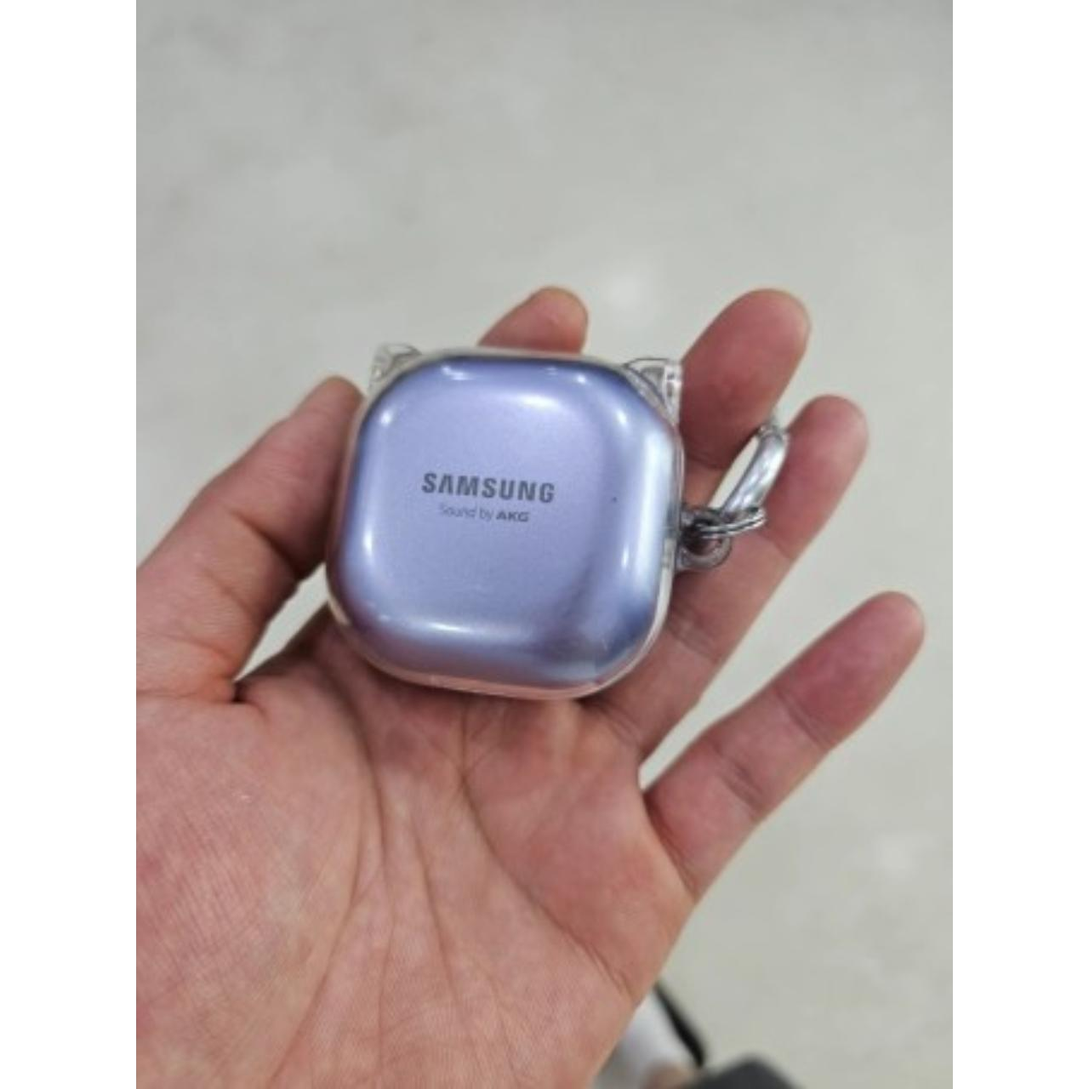Buds: (329, 339, 687, 709)
